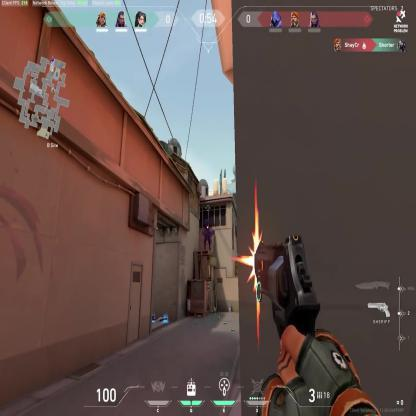enemy: (202, 220, 212, 252)
enemy_head: (205, 222, 208, 228)
